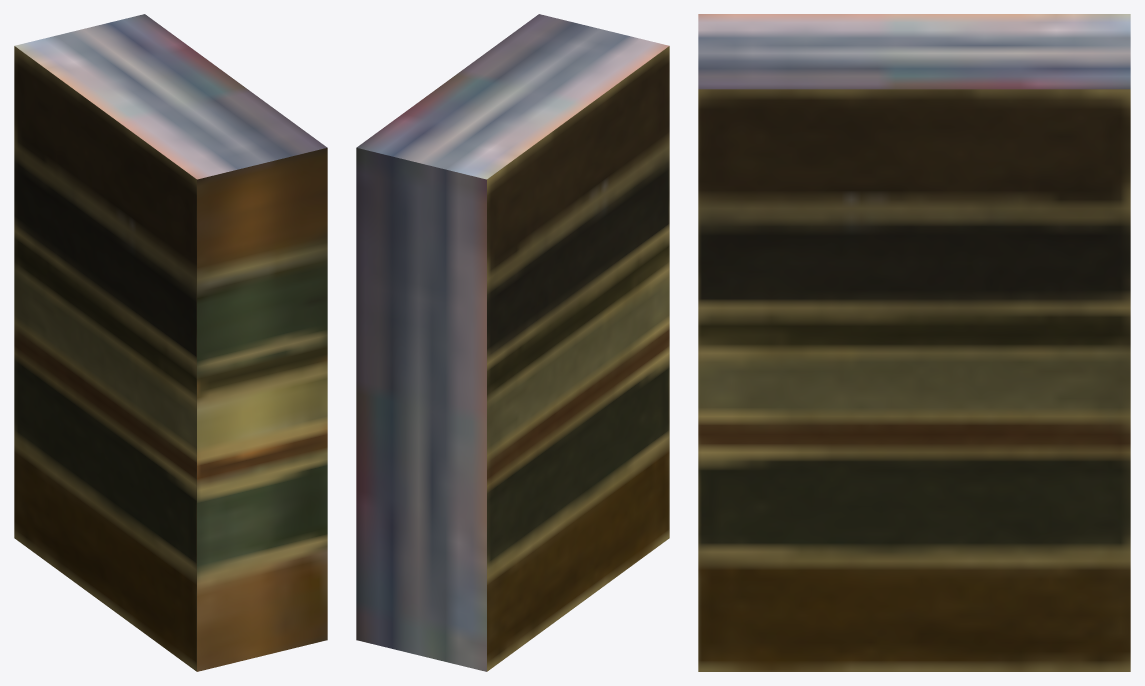
Rendered from F_shu002.fbx.
3 renders of one model, left to right at view 1: azimuth 30°, elevation 25°; view 2: azimuth 150°, elevation 25°; view 3: azimuth 270°, elevation 25°, orthographic. The views are drawn at different scales.
Parts seen in each view (by area): view 1: F_shu002; view 2: F_shu002; view 3: F_shu002.
Boxes of the visible parts, bbox=[...] form: F_shu002: bbox=[14, 14, 327, 671]; F_shu002: bbox=[356, 14, 669, 671]; F_shu002: bbox=[698, 14, 1130, 671].
Size of the model in its own units: 13.85 by 49.93 by 33.58.
